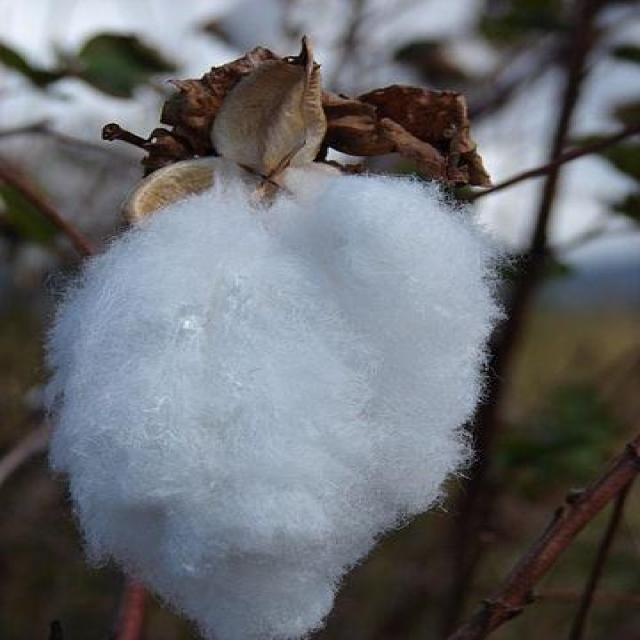Late_blight: (48, 50, 503, 640)
